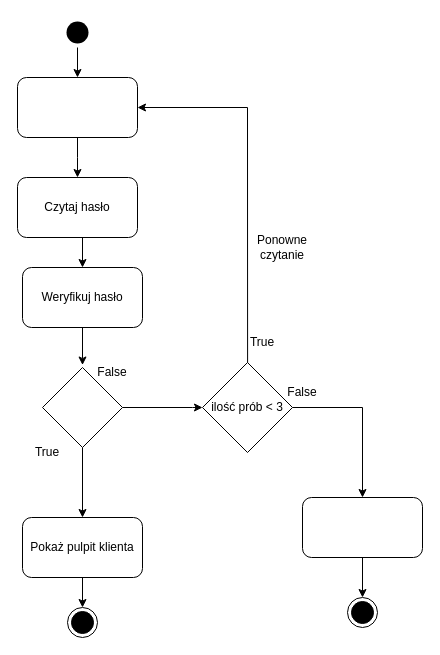
The diagram is 440 pixels wide and 655 high, and some of its shapes have lost their labels. Each missing label, with the centre of its shape:
"Czytaj username" belongs at pixel 77 107.
"Powiadom administratora" belongs at pixel 362 527.
